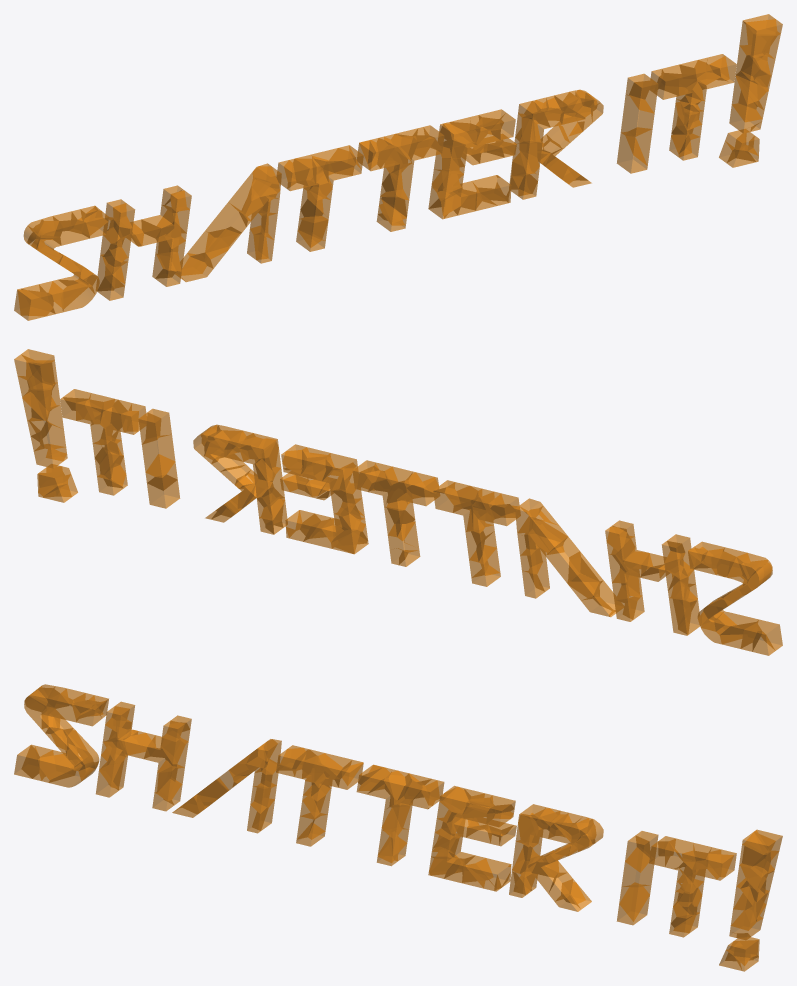
File: titleshattered.fbx
The picture shows the model from 3 angles, top to bottom: view 1: azimuth 30°, elevation 25°; view 2: azimuth 150°, elevation 25°; view 3: azimuth 330°, elevation 25°; orthographic projection.
Visible parts, largest first — view 1: exclamationmark2_fracturepart78, exclamationmark2_fracturepart234, exclamationmark2_fracturepart212, exclamationmark2_fracturepart179, exclamationmark2_fracturepart56, exclamationmark2_fracturepart57, exclamationmark2_fracturepart112, exclamationmark2_fracturepart190, exclamationmark2_fracturepart74, exclamationmark2_fracturepart36, exclamationmark2_fracturepart97, exclamationmark2_fracturepart82 (+20 smaller); view 2: exclamationmark2_fracturepart78, exclamationmark2_fracturepart56, exclamationmark2_fracturepart179, exclamationmark2_fracturepart167, exclamationmark2_fracturepart148, exclamationmark2_fracturepart82, exclamationmark2_fracturepart19, exclamationmark2_fracturepart77, exclamationmark2_fracturepart190, exclamationmark2_fracturepart159, exclamationmark2_fracturepart166, exclamationmark2_fracturepart74 (+17 smaller); view 3: exclamationmark2_fracturepart78, exclamationmark2_fracturepart179, exclamationmark2_fracturepart77, exclamationmark2_fracturepart148, exclamationmark2_fracturepart112, exclamationmark2_fracturepart190, exclamationmark2_fracturepart202, exclamationmark2_fracturepart36, exclamationmark2_fracturepart82, exclamationmark2_fracturepart234, exclamationmark2_fracturepart67, exclamationmark2_fracturepart212 (+14 smaller).
Boxes of the visible parts, <box> form: exclamationmark2_fracturepart78: <box>621,94,654,136</box>; exclamationmark2_fracturepart234: <box>17,290,53,320</box>; exclamationmark2_fracturepart212: <box>732,76,764,122</box>; exclamationmark2_fracturepart179: <box>617,132,647,173</box>; exclamationmark2_fracturepart56: <box>205,202,247,237</box>; exclamationmark2_fracturepart57: <box>14,288,55,316</box>; exclamationmark2_fracturepart112: <box>629,80,658,113</box>; exclamationmark2_fracturepart190: <box>48,279,87,308</box>; exclamationmark2_fracturepart74: <box>63,281,94,312</box>; exclamationmark2_fracturepart36: <box>53,219,89,245</box>; exclamationmark2_fracturepart97: <box>311,148,355,172</box>; exclamationmark2_fracturepart82: <box>472,175,511,200</box>; exclamationmark2_fracturepart78: <box>142,434,175,477</box>; exclamationmark2_fracturepart56: <box>546,537,580,583</box>; exclamationmark2_fracturepart179: <box>147,474,179,508</box>; exclamationmark2_fracturepart167: <box>528,517,567,555</box>; exclamationmark2_fracturepart148: <box>145,454,177,490</box>; exclamationmark2_fracturepart82: <box>285,510,320,541</box>; exclamationmark2_fracturepart19: <box>615,539,649,577</box>; exclamationmark2_fracturepart77: <box>719,622,757,648</box>; exclamationmark2_fracturepart190: <box>714,611,758,634</box>; exclamationmark2_fracturepart159: <box>669,597,691,635</box>; exclamationmark2_fracturepart166: <box>100,399,127,430</box>; exclamationmark2_fracturepart74: <box>701,612,742,644</box>; exclamationmark2_fracturepart78: <box>621,848,654,887</box>; exclamationmark2_fracturepart179: <box>617,883,649,925</box>; exclamationmark2_fracturepart77: <box>39,750,75,782</box>; exclamationmark2_fracturepart148: <box>619,885,651,921</box>; exclamationmark2_fracturepart112: <box>625,835,650,872</box>; exclamationmark2_fracturepart190: <box>38,754,81,779</box>; exclamationmark2_fracturepart202: <box>382,804,410,839</box>; exclamationmark2_fracturepart36: <box>46,693,79,722</box>; exclamationmark2_fracturepart82: <box>476,858,511,888</box>; exclamationmark2_fracturepart234: <box>14,745,39,778</box>; exclamationmark2_fracturepart67: <box>121,733,155,758</box>; exclamationmark2_fracturepart212: <box>730,893,756,930</box>.
Bounding box in the file's own units: 30.85 × 5.13 × 1.02.
